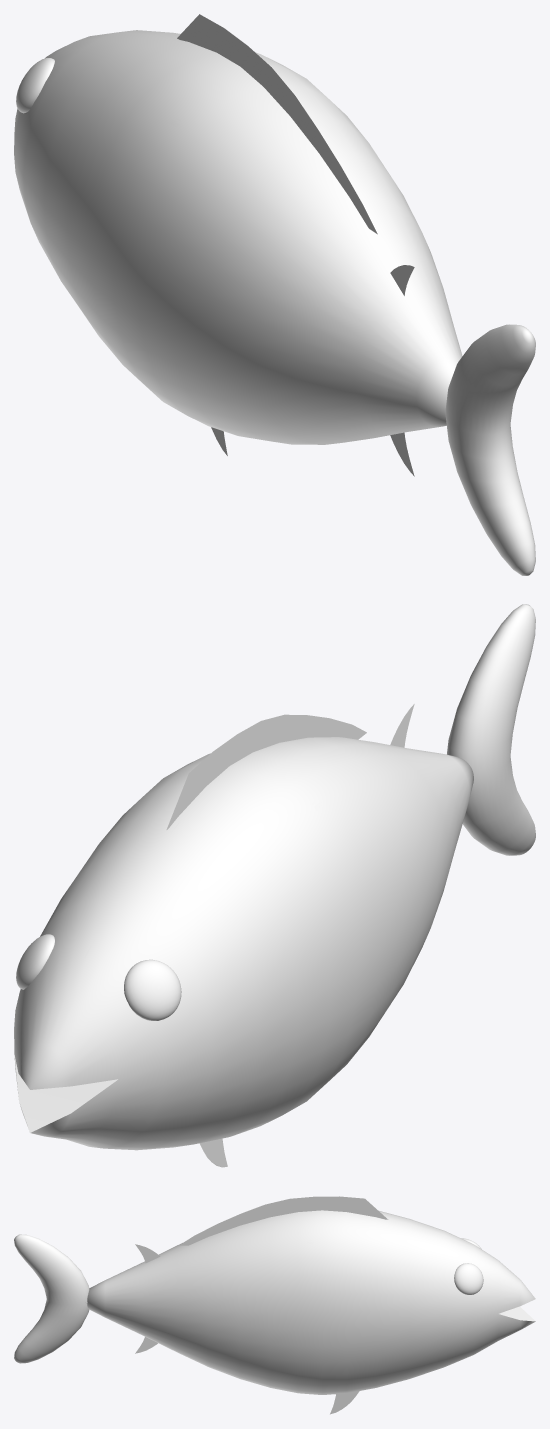
The model's file is maguro.fbx.
3 renders of one model, top to bottom at view 1: azimuth 30°, elevation 25°; view 2: azimuth 150°, elevation 25°; view 3: azimuth 270°, elevation 25°, orthographic. The views are drawn at different scales.
Parts seen in each view (by area): view 1: Sphere, Sphere.001, Plane, Sphere.002, Plane.001; view 2: Sphere, Sphere.001, Plane, Sphere.002; view 3: Sphere, Sphere.001, Plane, Sphere.002, Plane.001, Plane.002.
Part boxes in pixels (left/top/right/bottom): Sphere: left=14, top=30, right=462, bottom=444; Sphere.001: left=445, top=324, right=535, bottom=575; Plane: left=177, top=14, right=377, bottom=234; Sphere.002: left=16, top=58, right=54, bottom=113; Plane.001: left=390, top=265, right=414, bottom=476; Sphere: left=14, top=737, right=473, bottom=1150; Sphere.001: left=447, top=604, right=535, bottom=855; Plane: left=166, top=714, right=366, bottom=829; Sphere.002: left=16, top=934, right=181, bottom=1020; Sphere: left=87, top=1210, right=535, bottom=1394; Sphere.001: left=14, top=1234, right=89, bottom=1363; Plane: left=179, top=1196, right=388, bottom=1245; Sphere.002: left=454, top=1238, right=483, bottom=1294; Plane.001: left=135, top=1244, right=160, bottom=1353; Plane.002: left=330, top=1391, right=359, bottom=1414.
Bounding box in the file's own units: 1.47 × 2.43 × 5.24.
Materials: 1 (1 with a texture image).
